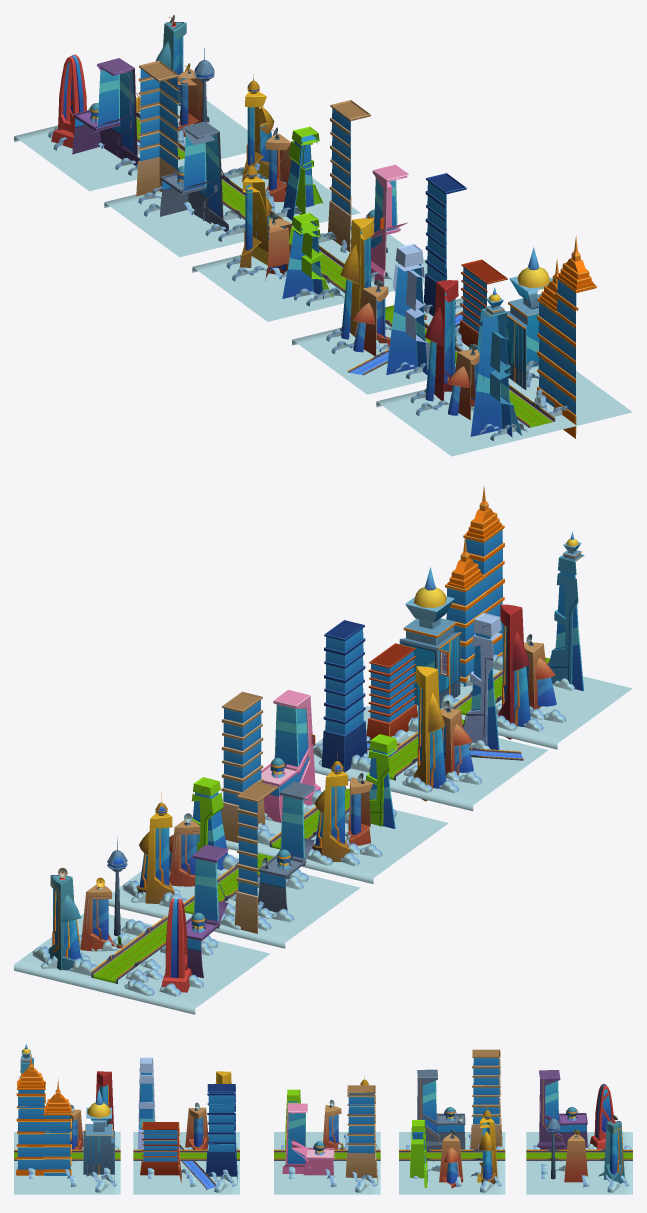
File: MetroPolise_Final.fbx
The picture shows the model from 3 angles, top to bottom: view 1: azimuth 30°, elevation 25°; view 2: azimuth 150°, elevation 25°; view 3: azimuth 270°, elevation 25°; orthographic projection. The views are drawn at different scales.
Visible parts, largest first — view 1: patch_05, patch_02, patch_04, patch_03, Patch_01, road5, road2, road3; view 2: patch_04, patch_05, patch_03, patch_02, Patch_01, Road1, road2, road4; view 3: patch_05, patch_02, patch_04, patch_03, Patch_01, Road1, road2, road4, road3, road5.
Boxes of the visible parts, x1,y1,x2,y2 form: patch_05: (376, 235, 632, 456); patch_02: (104, 60, 360, 257); patch_04: (292, 173, 507, 394); patch_03: (192, 100, 448, 321); Patch_01: (14, 14, 247, 191); road5: (509, 384, 555, 427); road2: (221, 174, 282, 219); road3: (318, 245, 371, 292); patch_04: (313, 613, 548, 811); patch_05: (399, 485, 632, 749); patch_03: (221, 690, 448, 883); patch_02: (108, 777, 360, 948); Patch_01: (14, 836, 269, 1014); Road1: (91, 915, 167, 983); road2: (183, 853, 273, 914); road4: (369, 719, 465, 780); patch_05: (14, 1044, 120, 1194); patch_02: (399, 1049, 505, 1194); patch_04: (133, 1057, 239, 1194); patch_03: (274, 1075, 380, 1194); Patch_01: (526, 1070, 632, 1194); Road1: (526, 1149, 632, 1160); road2: (399, 1149, 505, 1160); road4: (133, 1149, 239, 1160); road3: (274, 1149, 380, 1160); road5: (14, 1149, 120, 1160).
Bounding box in the file's own units: 2459 × 2491 × 10280.
